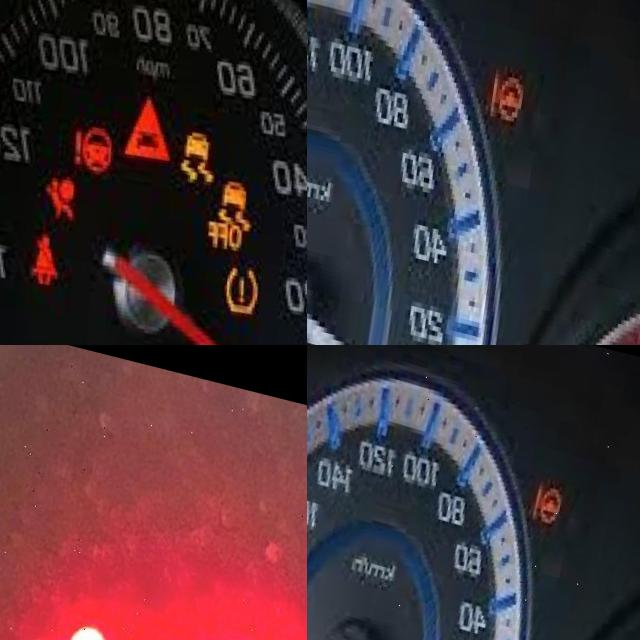Electronic Power Steering: (489, 57, 537, 116), (77, 112, 125, 166)
Electronic Power Steering Warning: (536, 466, 571, 513)
Seat Belt: (43, 222, 71, 276)
